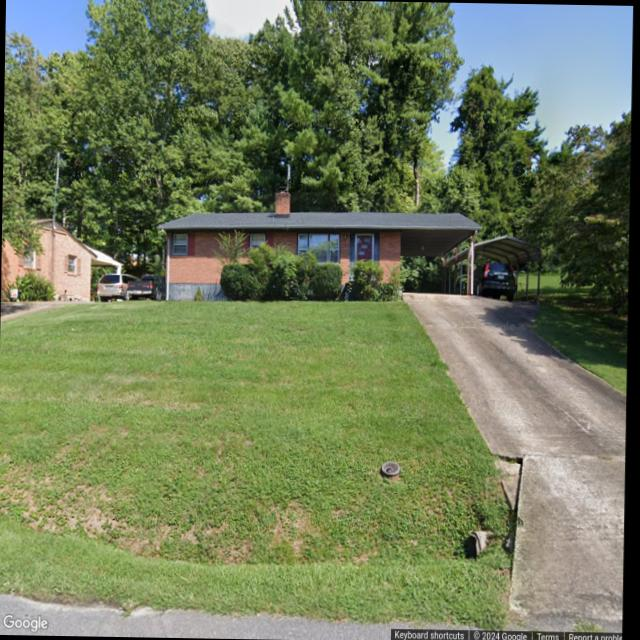House: (154, 190, 484, 306), (0, 212, 125, 308)
